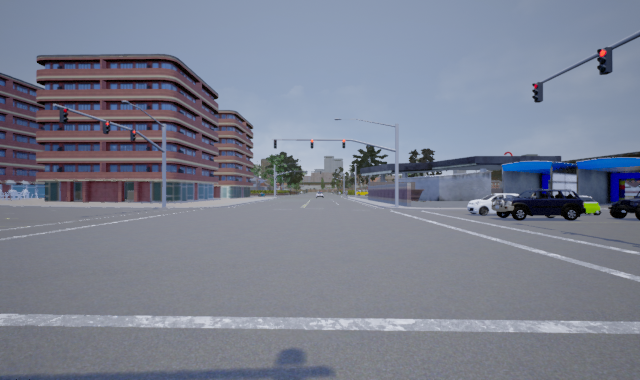vehicle: (493, 187, 588, 220), (465, 193, 530, 217), (608, 187, 639, 221), (556, 195, 605, 215)
